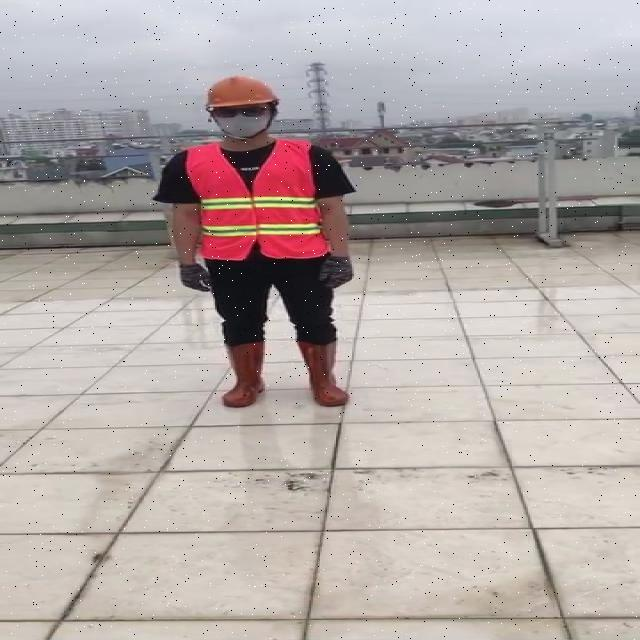Hard_hat: (200, 71, 288, 118)
Person: (148, 69, 368, 425)
Vest: (188, 140, 325, 264)
